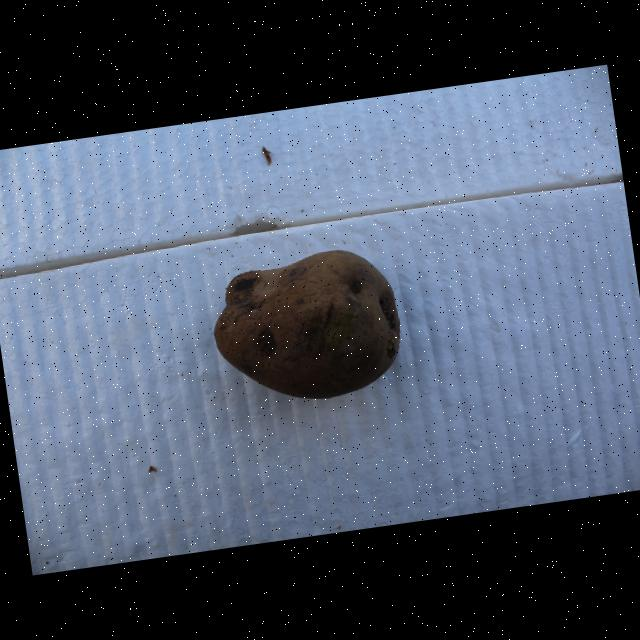Diseased-fungal potato: (200, 238, 412, 418)
